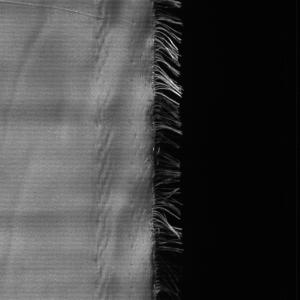Damage: (147, 1, 192, 300)
Wrinkle: (1, 1, 61, 285)
